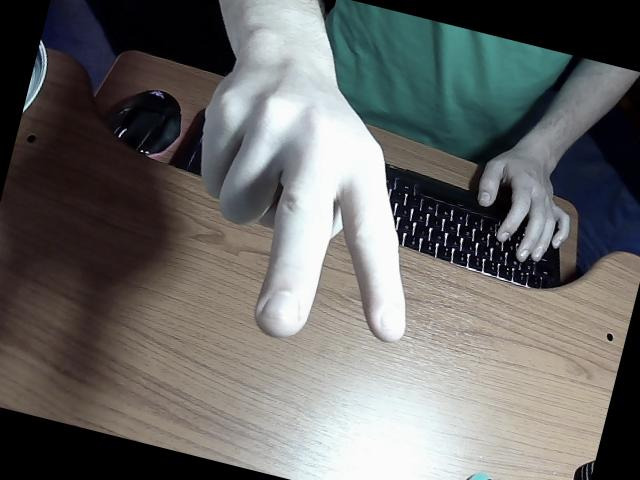scissors: (201, 0, 636, 342)
